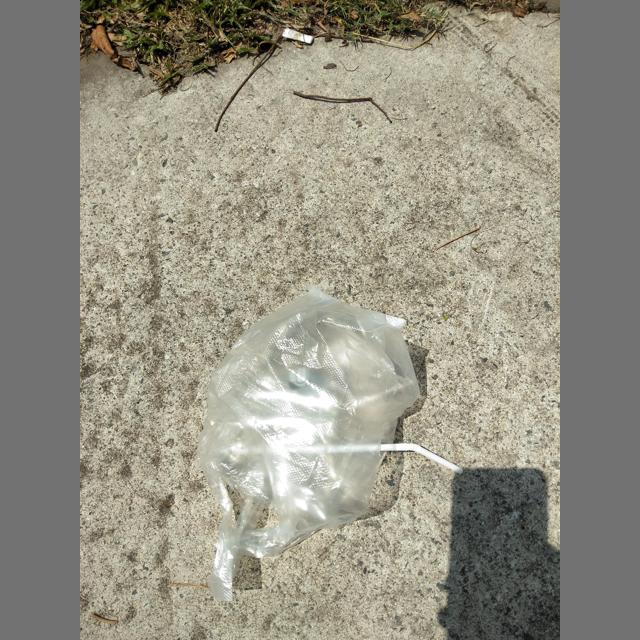litter: (197, 282, 420, 601), (306, 443, 463, 474), (282, 27, 314, 44)
